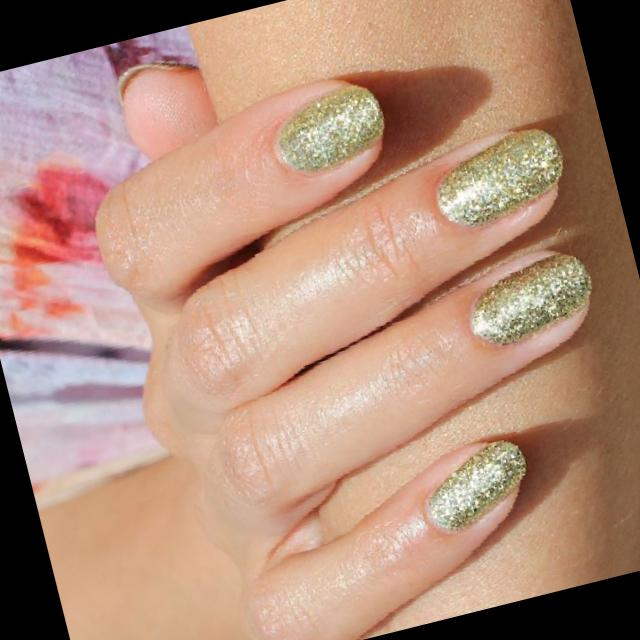Nail: (437, 128, 562, 227), (469, 252, 591, 344), (278, 84, 385, 171), (427, 440, 526, 529)
